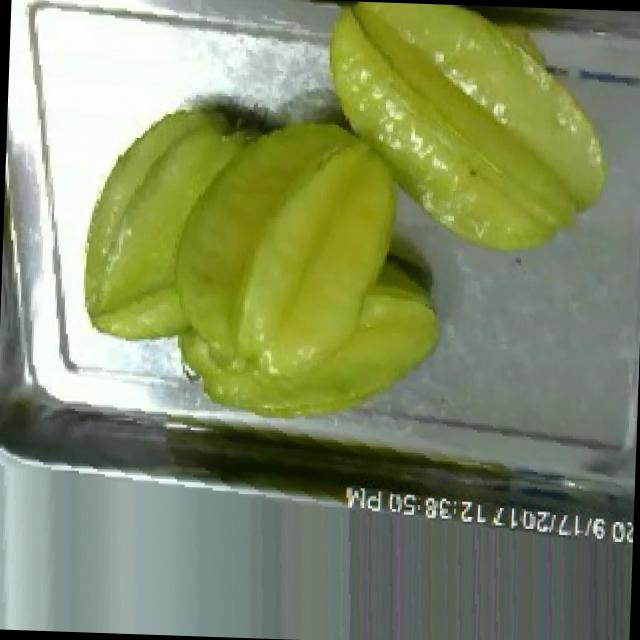fruit: (54, 88, 442, 446), (298, 0, 637, 283)
